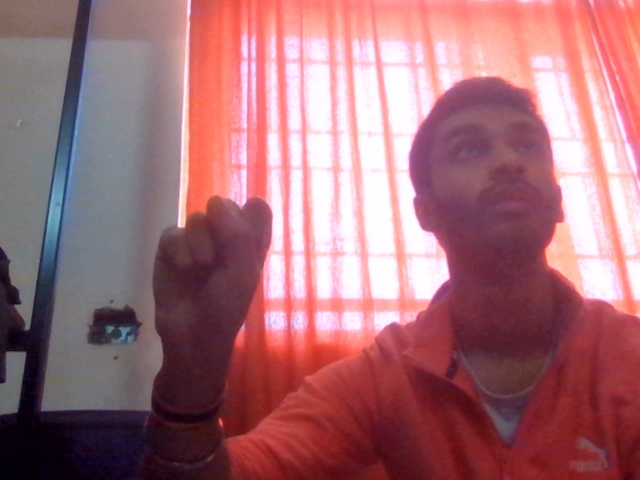S: (136, 184, 335, 372)
